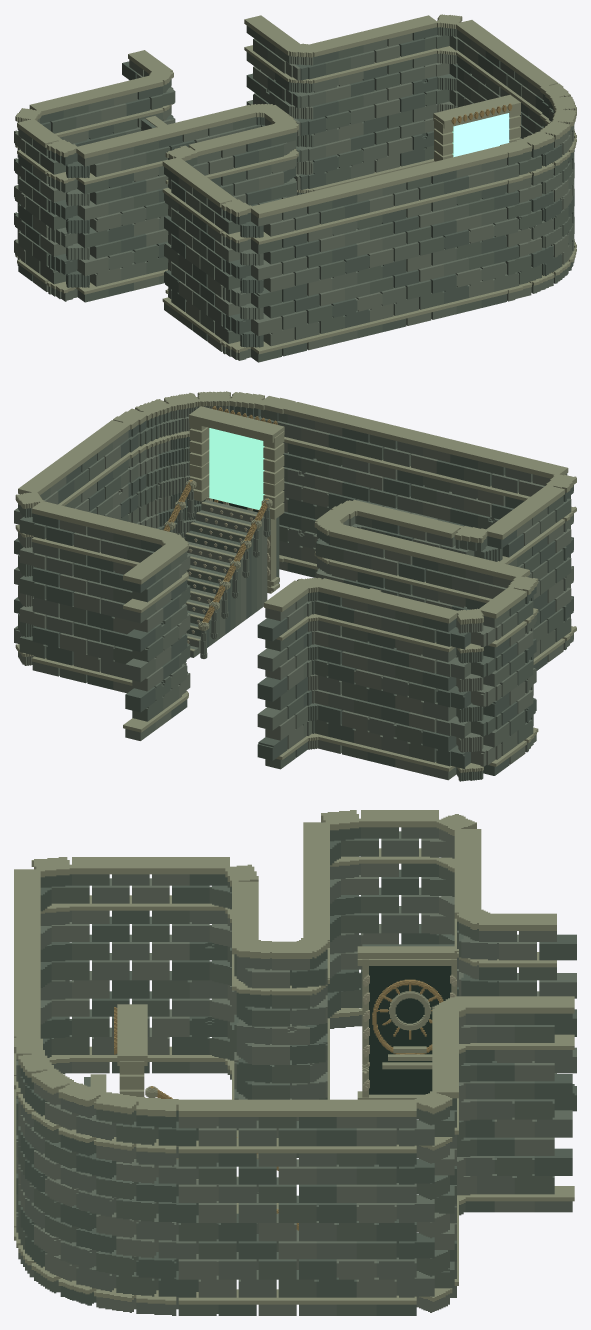
3 views of the same model, one above another, from view 1: azimuth 30°, elevation 25°; view 2: azimuth 150°, elevation 25°; view 3: azimuth 270°, elevation 25° (orthographic). The views are drawn at different scales.
Parts seen in each view (by area): view 1: CarvedMasonry_0_1_00, CarvedMasonry_-1_1_00, CarvedMasonry_-2_0_00, CarvedMasonry_0_-1_00, CarvedMasonry_1_-1_00, CarvedMasonry_-1_0_00, CarvedMasonry_-2_-1_00, CarvedMasonry_-2_1_00, CarvedMasonry_1_1_00, CarvedMasonry_-1_-1_00, CarvedMasonry_1_0_00, CarvedAscentStair_00 (+1 smaller); view 2: CarvedMasonry_-2_-1_00, CarvedMasonry_-1_-1_00, CarvedMasonry_0_-1_00, CarvedAscentStair_00, CarvedMasonry_0_1_00, CarvedMasonry_1_-1_00, CarvedMasonry_-1_0_00, CarvedMasonry_1_0_00, CarvedMasonry_-1_1_00, CarvedMasonry_-2_0_00, CarvedMasonry_-2_1_00, CarvedMasonry_1_1_00 (+2 smaller); view 3: CarvedMasonry_1_0_00, CarvedMasonry_0_-1_00, CarvedMasonry_1_-1_00, CarvedMasonry_-2_0_00, CarvedMasonry_-1_0_00, CarvedMasonry_-2_-1_00, CarvedMasonry_1_1_00, CarvedMasonry_-2_1_00, Heraldry_14_01, CarvedMasonry_-1_-1_00, CarvedMasonry_0_1_00, CarvedMasonry_-1_1_00 (+1 smaller).
Boxes of the visible parts, <box> form: CarvedMasonry_0_1_00: <box>374,139,541,331</box>; CarvedMasonry_-1_1_00: <box>240,176,393,362</box>; CarvedMasonry_-2_0_00: <box>66,129,221,341</box>; CarvedMasonry_0_-1_00: <box>244,15,389,195</box>; CarvedMasonry_1_-1_00: <box>373,14,500,172</box>; CarvedMasonry_-1_0_00: <box>144,103,298,296</box>; CarvedMasonry_-2_-1_00: <box>14,92,101,301</box>; CarvedMasonry_-2_1_00: <box>200,188,252,360</box>; CarvedMasonry_1_1_00: <box>520,109,576,293</box>; CarvedMasonry_-1_-1_00: <box>80,50,175,140</box>; CarvedMasonry_1_0_00: <box>478,41,576,247</box>; CarvedAscentStair_00: <box>433,94,520,161</box>; CarvedMasonry_-2_-1_00: <box>381,575,538,781</box>; CarvedMasonry_-1_-1_00: <box>257,577,404,769</box>; CarvedMasonry_0_-1_00: <box>85,514,190,740</box>; CarvedAscentStair_00: <box>163,406,284,658</box>; CarvedMasonry_0_1_00: <box>247,396,432,577</box>; CarvedMasonry_1_-1_00: <box>14,465,102,683</box>; CarvedMasonry_-1_0_00: <box>314,499,487,609</box>; CarvedMasonry_1_0_00: <box>50,399,173,529</box>; CarvedMasonry_-1_1_00: <box>411,435,570,617</box>; CarvedMasonry_-2_0_00: <box>437,496,549,725</box>; CarvedMasonry_-2_1_00: <box>531,473,576,662</box>; CarvedMasonry_1_1_00: <box>157,391,264,539</box>; CarvedMasonry_1_0_00: <box>94,1091,356,1315</box>; CarvedMasonry_0_-1_00: <box>432,996,574,1248</box>; CarvedMasonry_1_-1_00: <box>336,1059,458,1315</box>; CarvedMasonry_-2_0_00: <box>112,822,340,1073</box>; CarvedMasonry_-1_0_00: <box>225,864,329,1157</box>; CarvedMasonry_-2_-1_00: <box>321,810,481,1028</box>; CarvedMasonry_1_1_00: <box>18,1052,118,1305</box>; CarvedMasonry_-2_1_00: <box>31,857,129,1073</box>; Heraldry_14_01: <box>357,944,456,1099</box>; CarvedMasonry_-1_-1_00: <box>454,862,576,1111</box>; CarvedMasonry_0_1_00: <box>14,953,44,1259</box>; CarvedMasonry_-1_1_00: <box>14,869,51,1142</box>.
Bounding box in the file's own units: 19.2 × 6.72 × 15.18.
